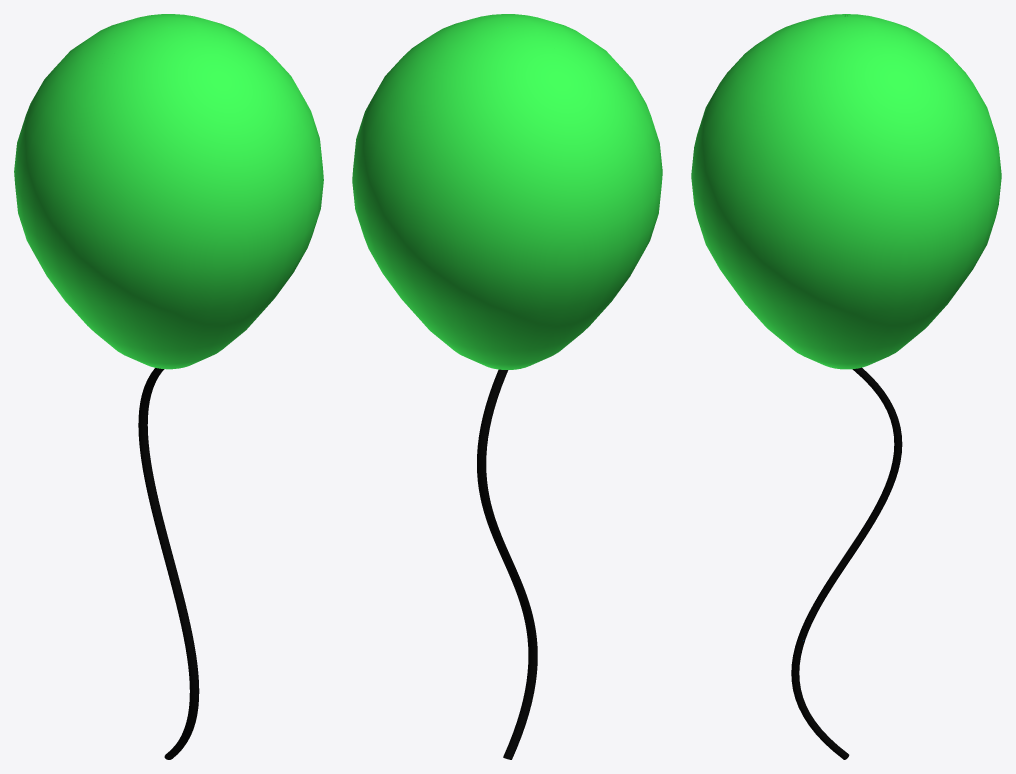
File: balloon.obj
3 renders of one model, left to right at view 1: azimuth 30°, elevation 25°; view 2: azimuth 150°, elevation 25°; view 3: azimuth 270°, elevation 25°, orthographic.
Parts seen in each view (by area): view 1: Balloon; view 2: Balloon; view 3: Balloon.
Part boxes in pixels (bbox=[...]): Balloon: bbox=[14, 14, 323, 759]; Balloon: bbox=[352, 14, 662, 759]; Balloon: bbox=[691, 14, 1001, 759].
Size of the model in its own units: 1.9 by 4.94 by 1.9.
